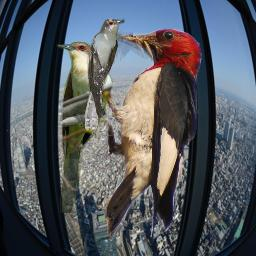Cuckoo: (56, 41, 114, 213), (83, 17, 125, 130)
Woodpecker: (90, 28, 202, 241)
